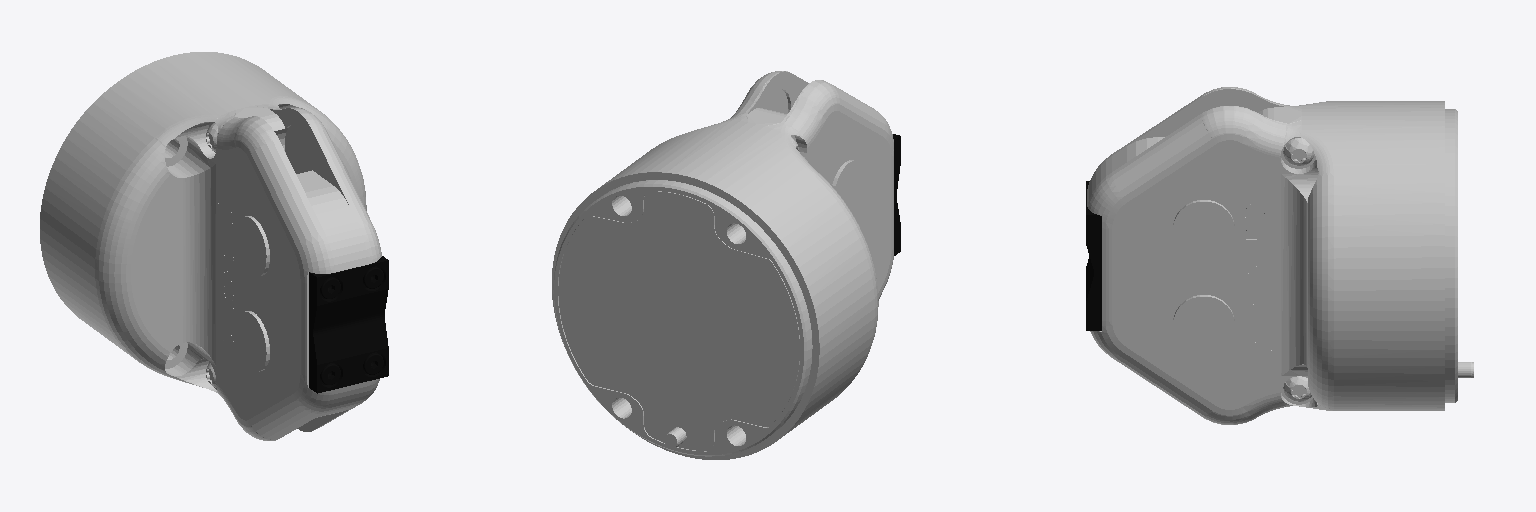
The model's file is robotiq_arg2f_85_base_link.obj.
The picture shows the model from 3 angles: view 1: azimuth 30°, elevation 25°; view 2: azimuth 150°, elevation 25°; view 3: azimuth 270°, elevation 25°; orthographic projection.
Visible parts, largest first — view 1: geometry100, geometry4; view 2: geometry100, geometry4; view 3: geometry100, geometry4.
Boxes of the visible parts, x1=… form: geometry100: x1=40, y1=52, x2=381, y2=440; geometry4: x1=309, y1=256, x2=388, y2=393; geometry100: x1=552, y1=71, x2=893, y2=459; geometry4: x1=893, y1=134, x2=900, y2=255; geometry100: x1=1087, y1=87, x2=1473, y2=424; geometry4: x1=1086, y1=181, x2=1101, y2=330.
Size of the model in its own units: 0.075 by 0.0848 by 0.094.